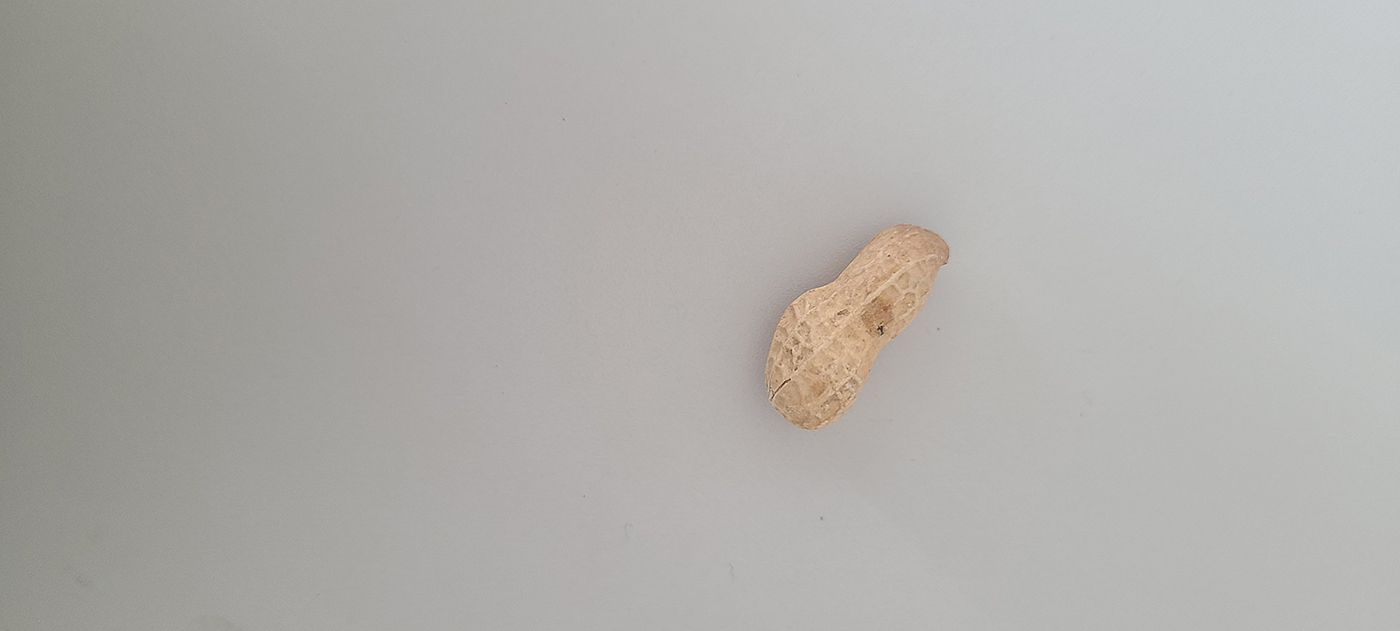h: (758, 219, 954, 432)
